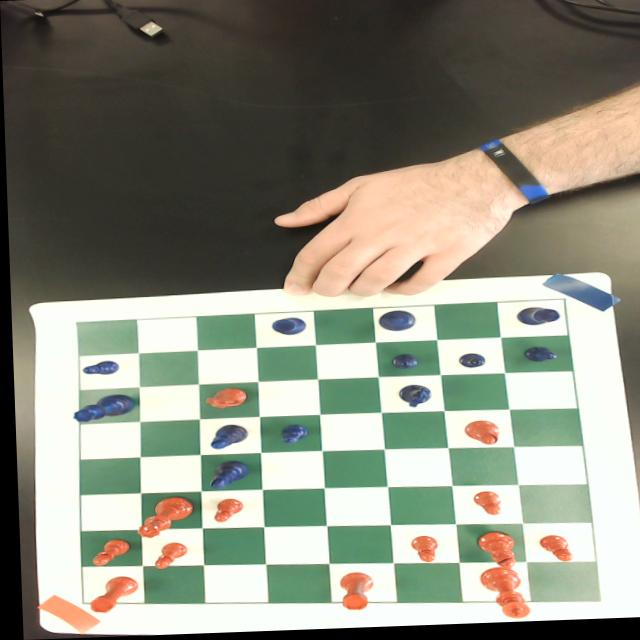B: (205, 461, 246, 490), (205, 425, 246, 450)
K: (375, 312, 414, 333)
N: (390, 385, 435, 410)
P: (78, 360, 117, 376), (521, 349, 556, 366), (278, 425, 306, 445), (454, 355, 484, 371), (388, 357, 416, 372)
Q: (69, 394, 131, 422)
R: (512, 309, 559, 329), (267, 317, 303, 336)
b: (471, 534, 513, 573), (460, 423, 496, 448)
k: (475, 573, 526, 622)
n: (201, 387, 246, 409)
p: (86, 538, 127, 565), (533, 538, 571, 566), (148, 543, 184, 570), (467, 493, 502, 520), (405, 538, 437, 565), (208, 498, 240, 524)
q: (133, 497, 191, 539)
r: (83, 575, 134, 614), (333, 573, 370, 612)
